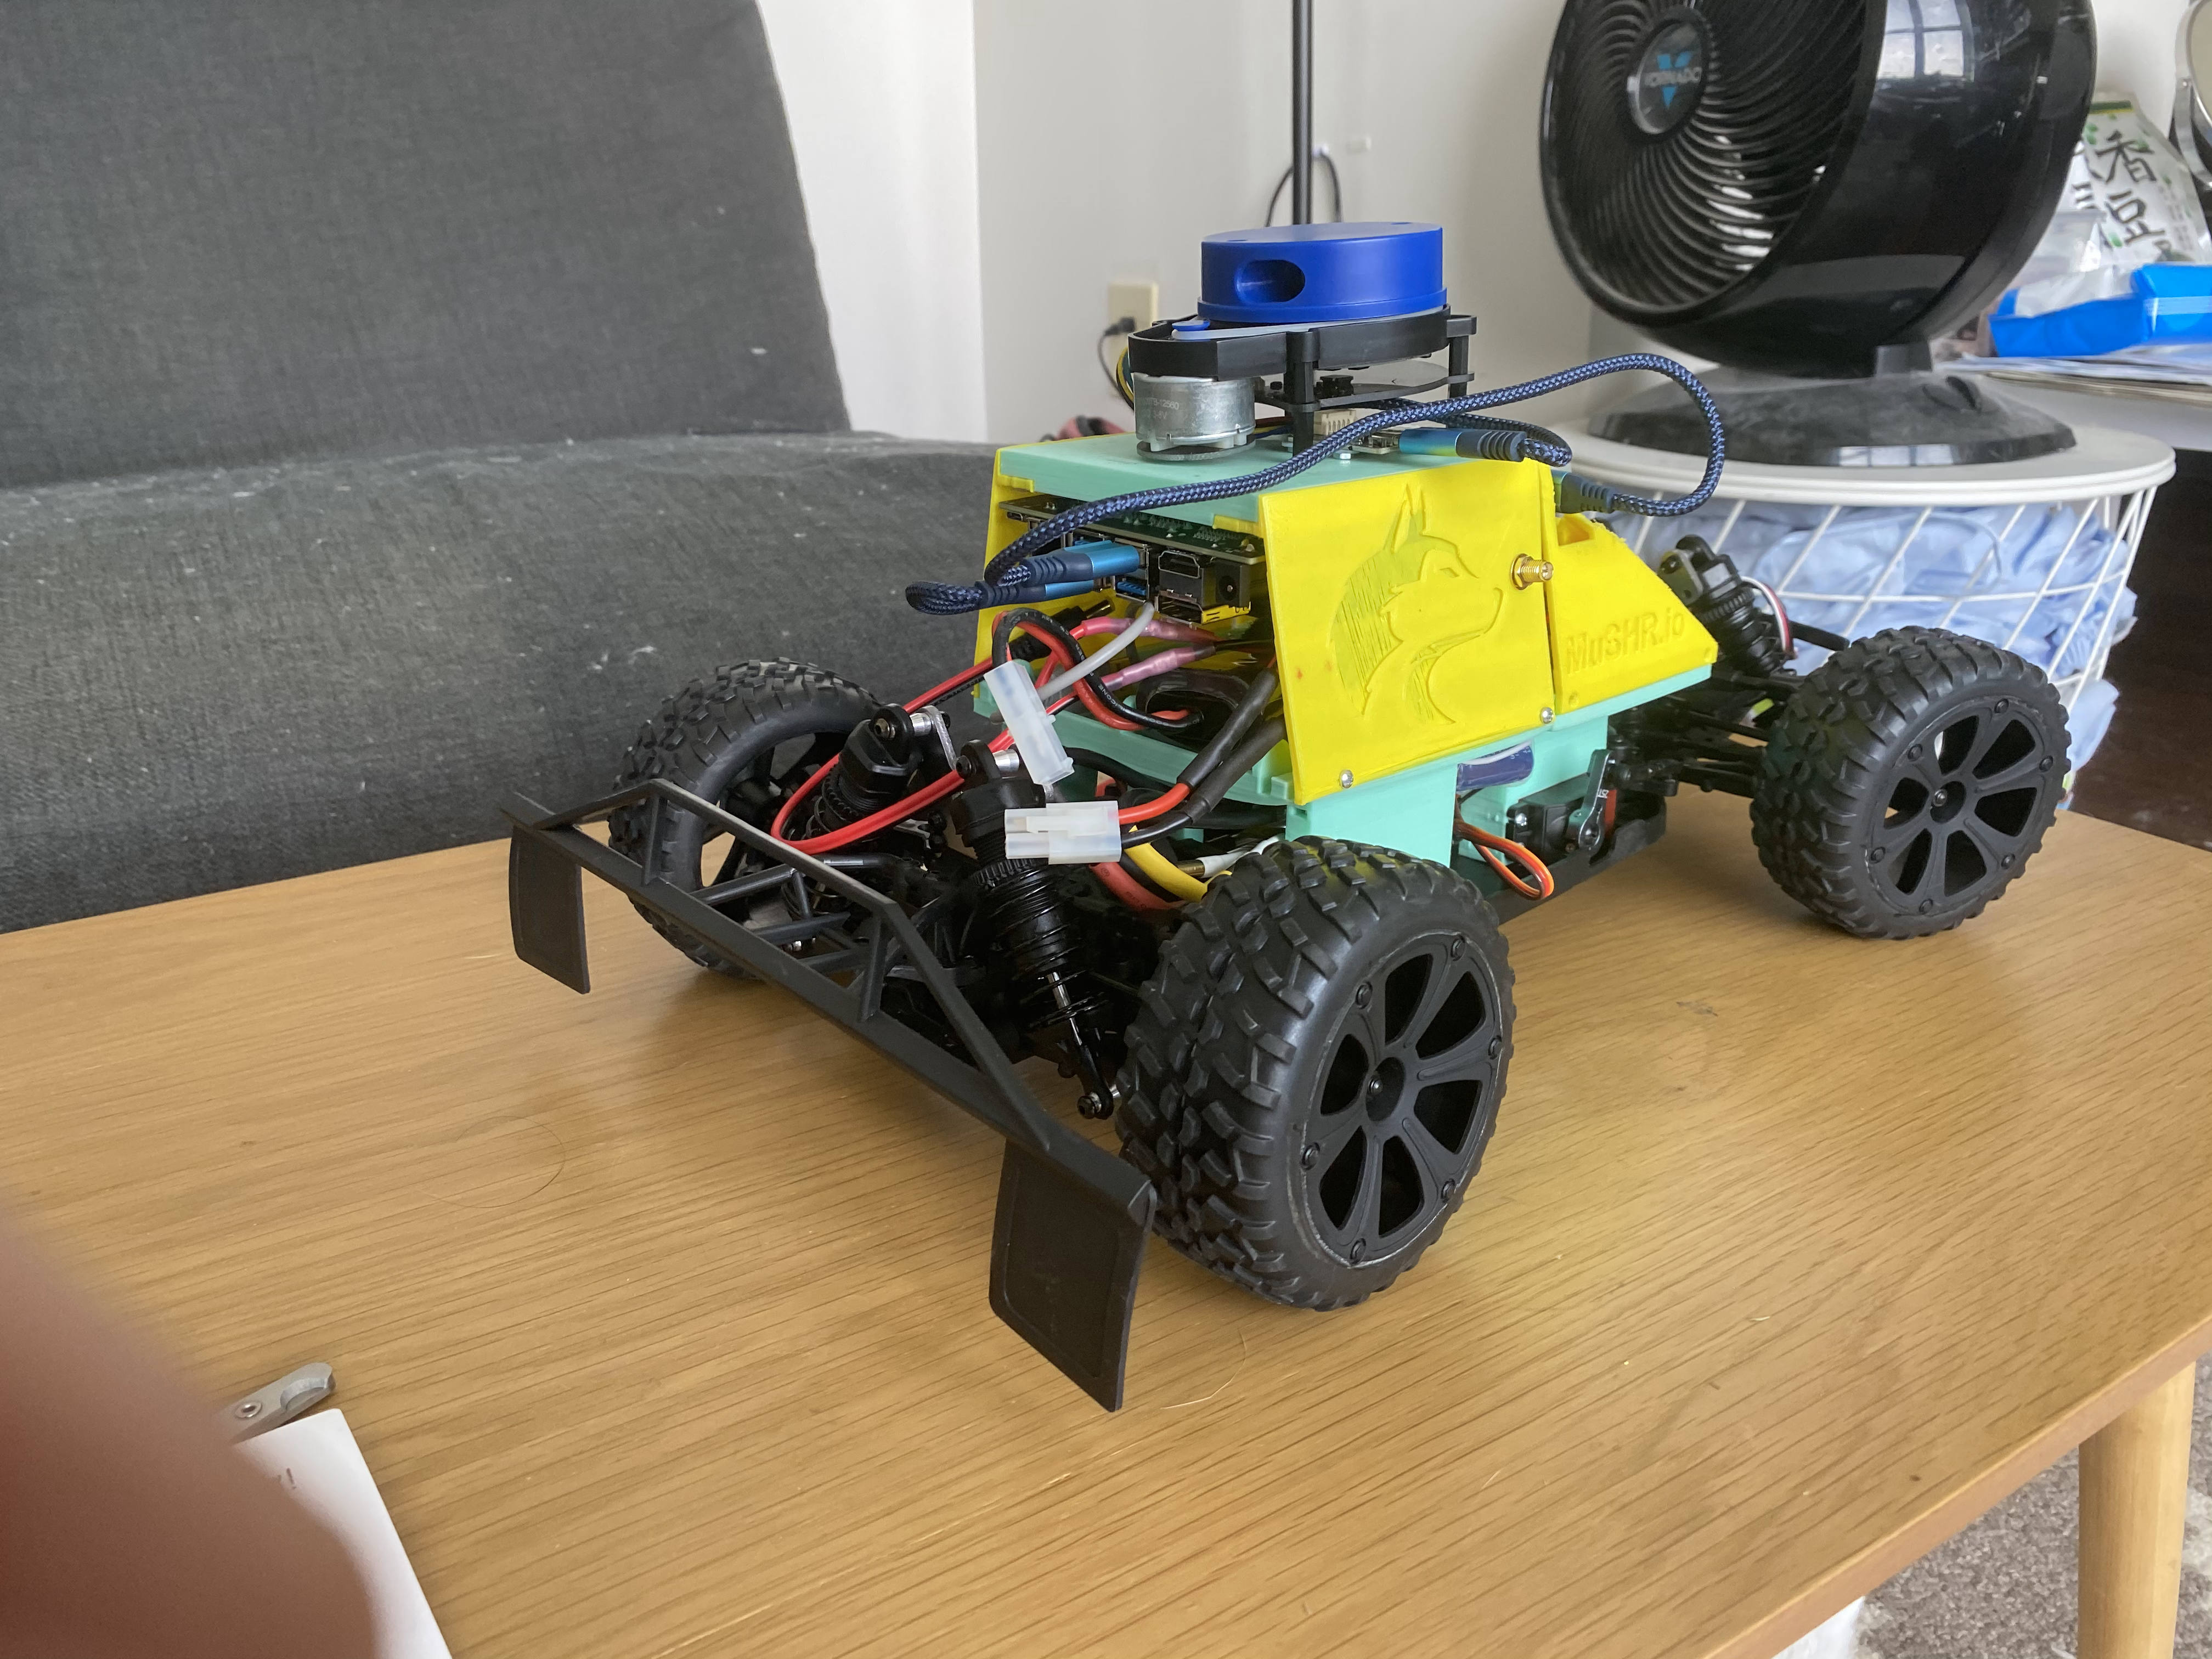mushr_car: (458, 218, 2078, 1412)
